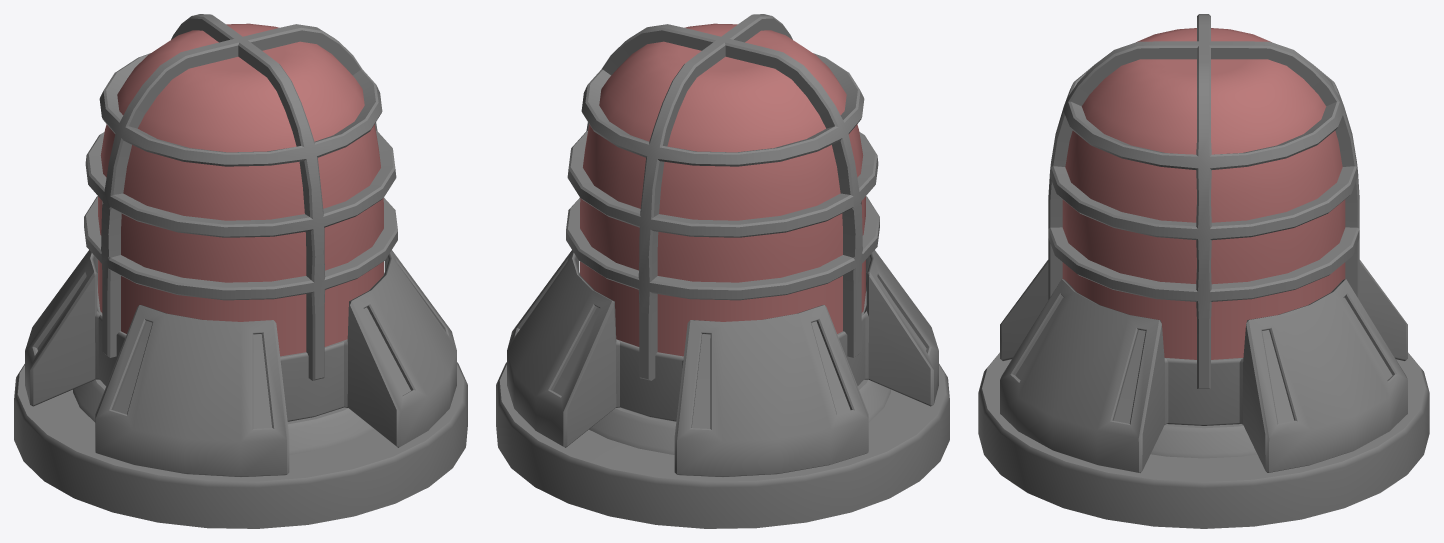
The model's file is RedLight.fbx.
3 renders of one model, left to right at view 1: azimuth 30°, elevation 25°; view 2: azimuth 150°, elevation 25°; view 3: azimuth 270°, elevation 25°, orthographic.
Visible parts, largest first — view 1: RedLight; view 2: RedLight; view 3: RedLight.
Part boxes in pixels (bbox=[...]): RedLight: bbox=[14, 14, 467, 528]; RedLight: bbox=[496, 14, 949, 528]; RedLight: bbox=[978, 14, 1429, 528].
Size of the model in its own units: 3.55 by 3.38 by 3.55.
